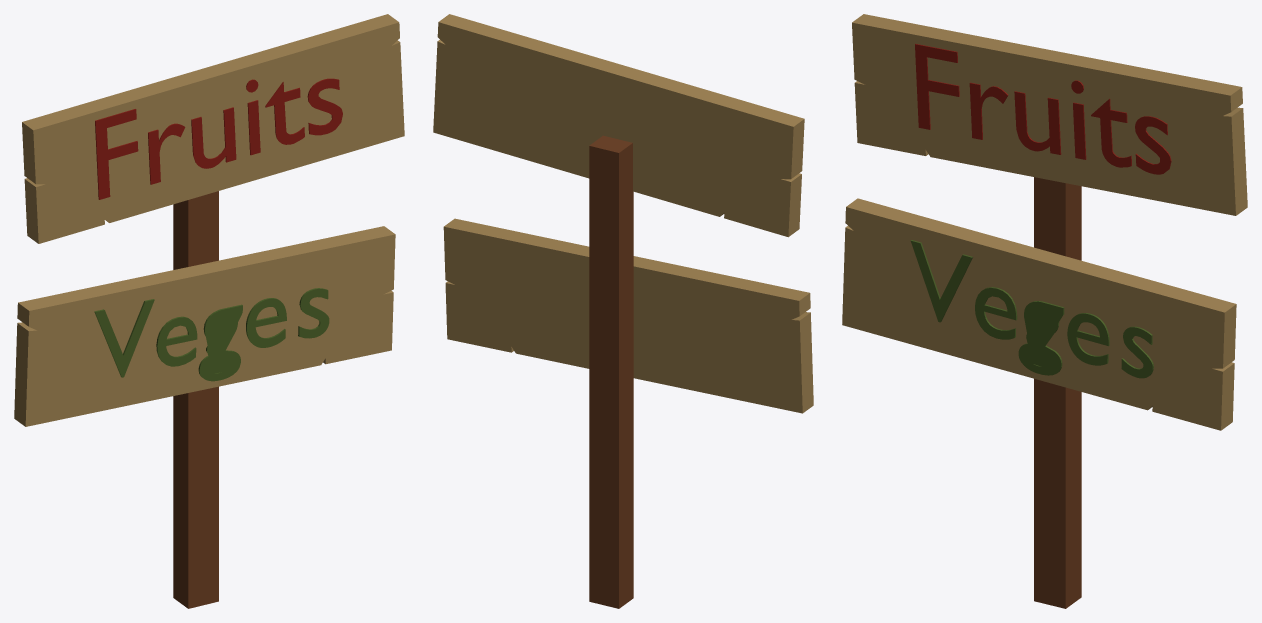
File: Banner_2.fbx
The picture shows the model from 3 angles, left to right: view 1: azimuth 30°, elevation 25°; view 2: azimuth 150°, elevation 25°; view 3: azimuth 330°, elevation 25°; orthographic projection. The views are drawn at different scales.
Parts seen in each view (by area): view 1: Banner_2; view 2: Banner_2; view 3: Banner_2.
Part boxes in pixels (bbox=[...]): Banner_2: bbox=[14, 14, 404, 608]; Banner_2: bbox=[433, 14, 813, 608]; Banner_2: bbox=[842, 14, 1247, 608].
Size of the model in its own units: 110 by 151 by 14.18.
